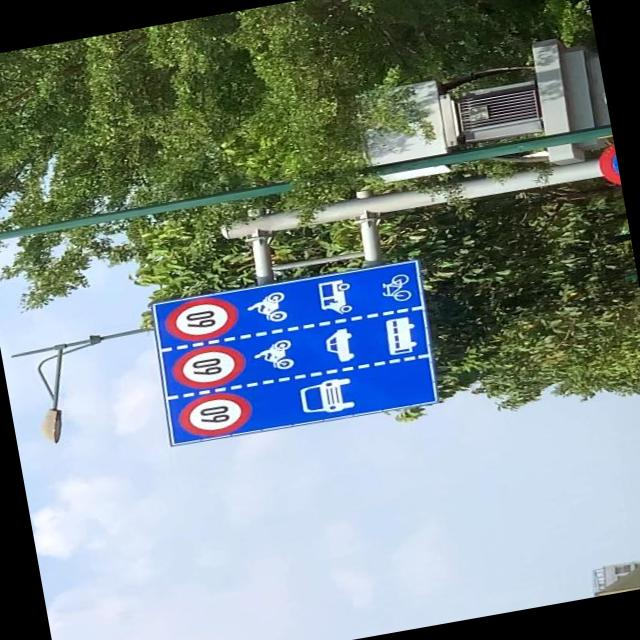P-127c: (152, 256, 441, 443)
